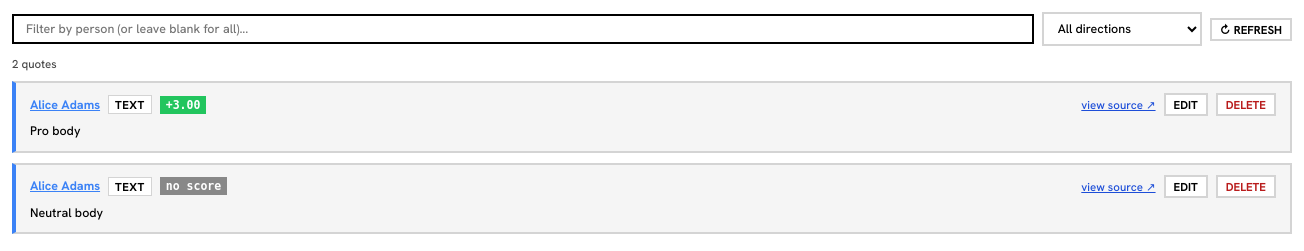
Test: QuotesListView — direction filter › "No score impact" only shows direction=0 quotes
Expected: the text "2 quotes" is shown, [12,56,57,71]
Select "No score impact" in the dropdown showing "All directions" at x=1122, y=29, box [1042,12,1202,46]
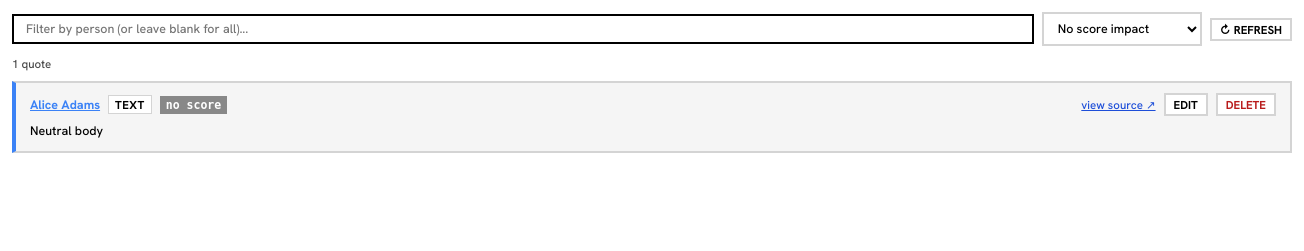
Expected: the text "Neutral body" is shown, [30,123,103,139]
Expected: the text "1 quote" is shown, [12,56,51,71]
Expected: the text "Pro body" is gone
